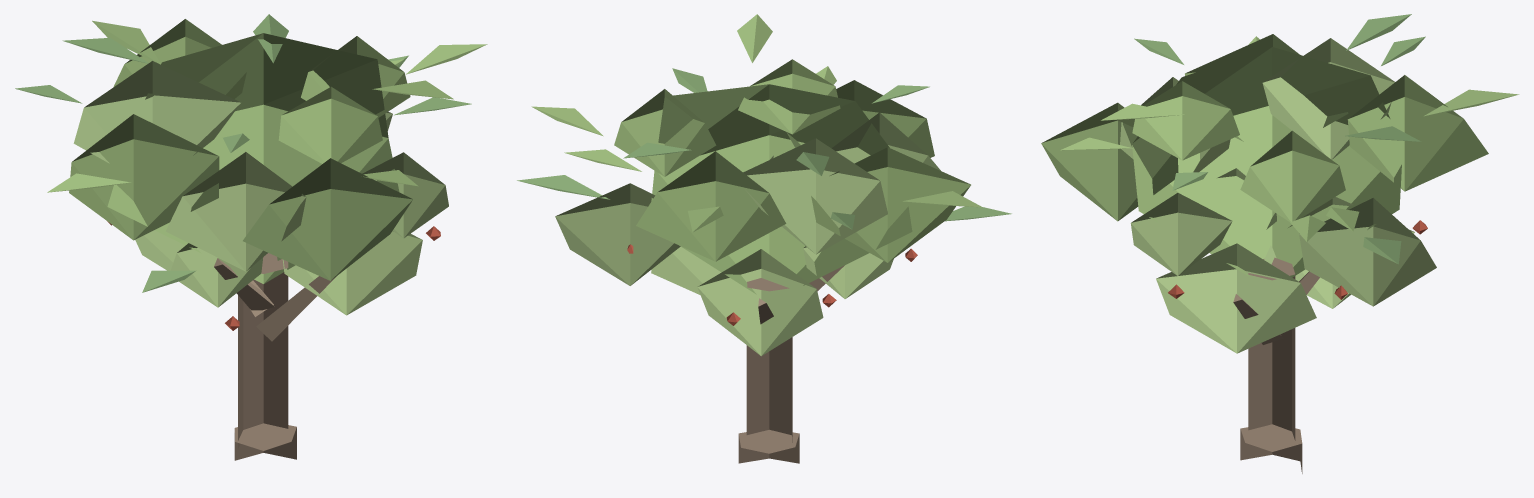
File: shu.gaoshan@fruiting__bloom.glb
The picture shows the model from 3 angles, left to right: view 1: azimuth 30°, elevation 25°; view 2: azimuth 150°, elevation 25°; view 3: azimuth 270°, elevation 25°; orthographic projection. The views are drawn at different scales.
Parts seen in each view (by area): view 1: shu.gaoshan@fruiting__bloom; view 2: shu.gaoshan@fruiting__bloom; view 3: shu.gaoshan@fruiting__bloom.
Part boxes in pixels (bbox=[...]): shu.gaoshan@fruiting__bloom: bbox=[15, 14, 487, 460]; shu.gaoshan@fruiting__bloom: bbox=[517, 14, 1011, 463]; shu.gaoshan@fruiting__bloom: bbox=[1041, 14, 1519, 473].
Bounding box in the file's own units: 15.44 × 13.09 × 14.14.
